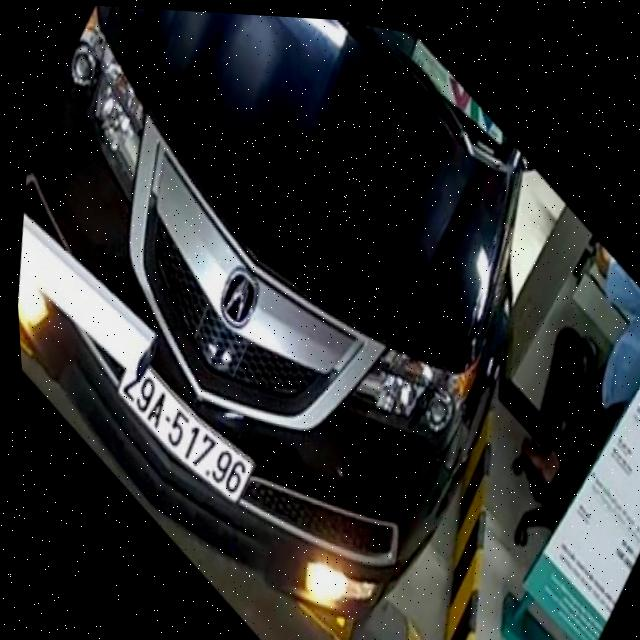car: (18, 6, 540, 632)
plate: (110, 351, 259, 515)
